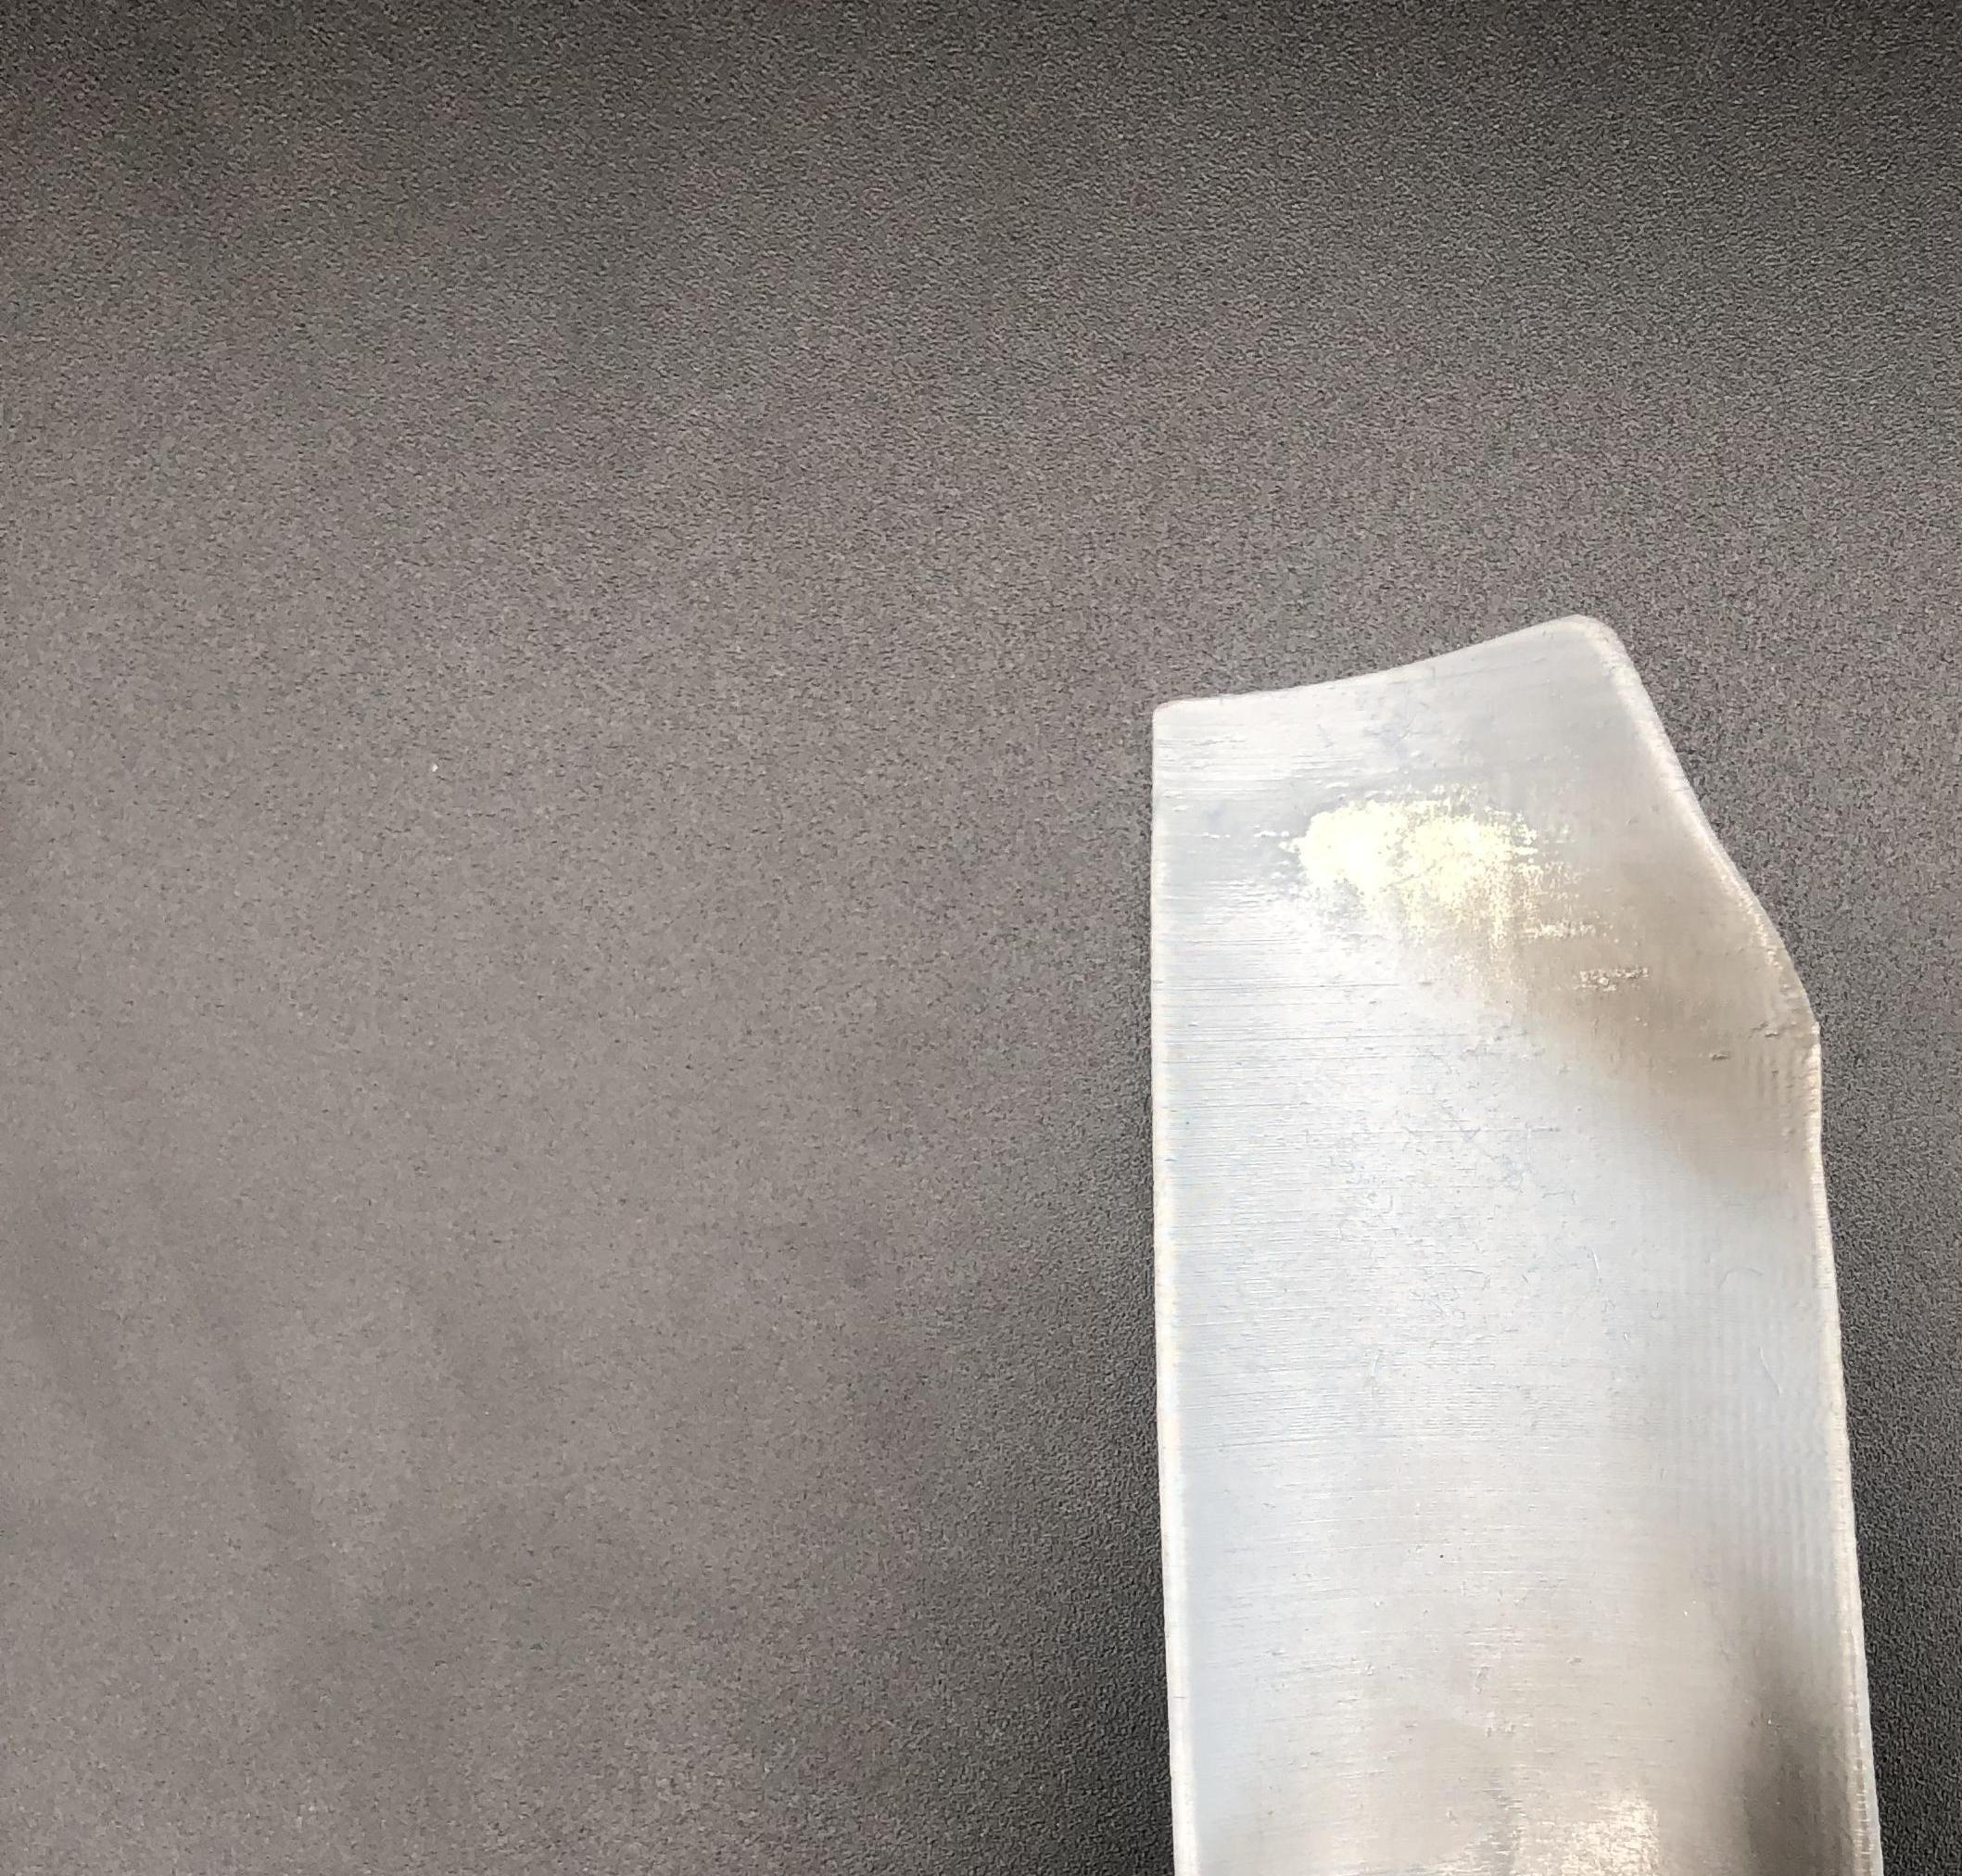ablation: (1240, 1694, 1859, 1871), (1486, 832, 1801, 1165)
